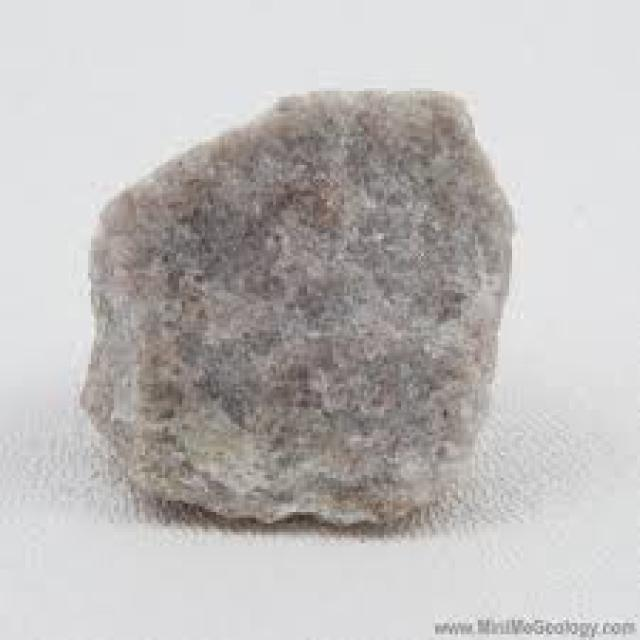Metamorphic: (68, 91, 518, 515)
